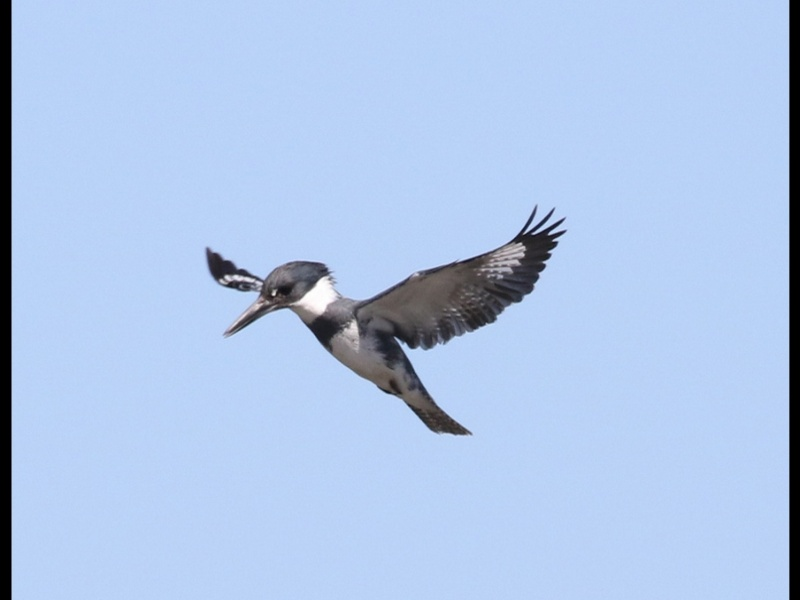kingfisher: (202, 204, 571, 439)
